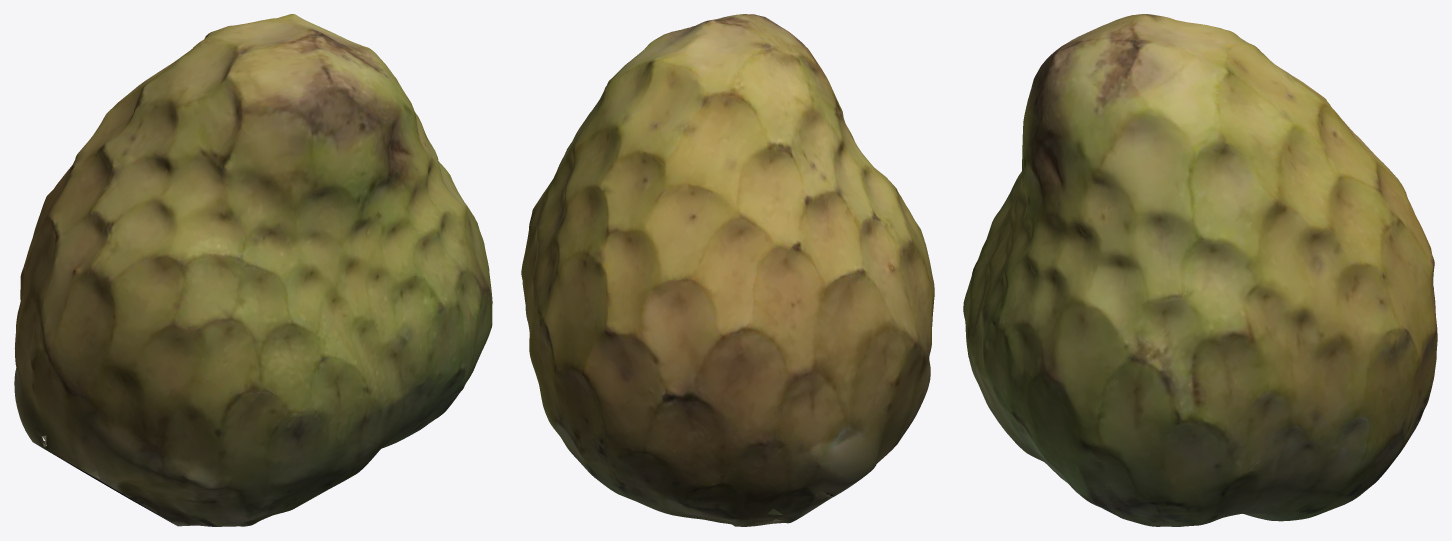
The model's file is custard-apple.glb.
3 renders of one model, left to right at view 1: azimuth 30°, elevation 25°; view 2: azimuth 150°, elevation 25°; view 3: azimuth 270°, elevation 25°, orthographic. The views are drawn at different scales.
Visible parts, largest first — view 1: fruitai_marime_reala; view 2: fruitai_marime_reala; view 3: fruitai_marime_reala.
Part boxes in pixels (x1,y1,x2,y2): fruitai_marime_reala: [14, 14, 492, 526]; fruitai_marime_reala: [521, 14, 934, 526]; fruitai_marime_reala: [963, 14, 1437, 526].
Bounding box in the file's own units: 0.0921 × 0.0997 × 0.0861.
Materials: 1 (1 with a texture image).
